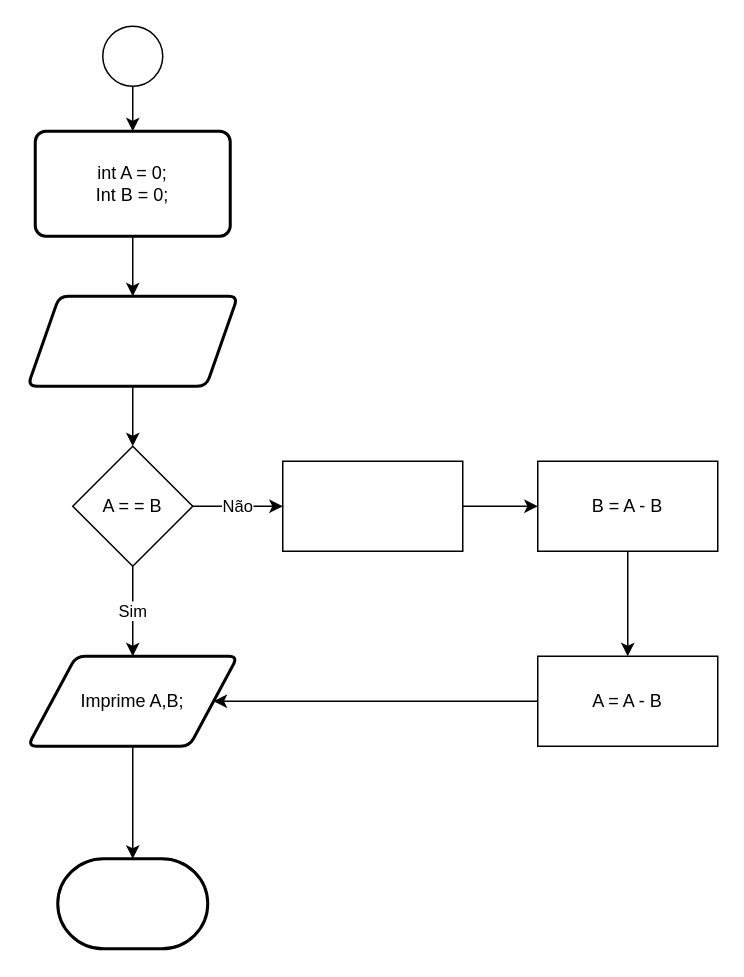
This 744x977 diagram has some shape labels left out. The shapes that lost their labels are listed below. From the top down, each one's centre as x and y in pixels, then its label:
At point 132,340: "ler A, B;".
At point 372,505: "A = A +B".
